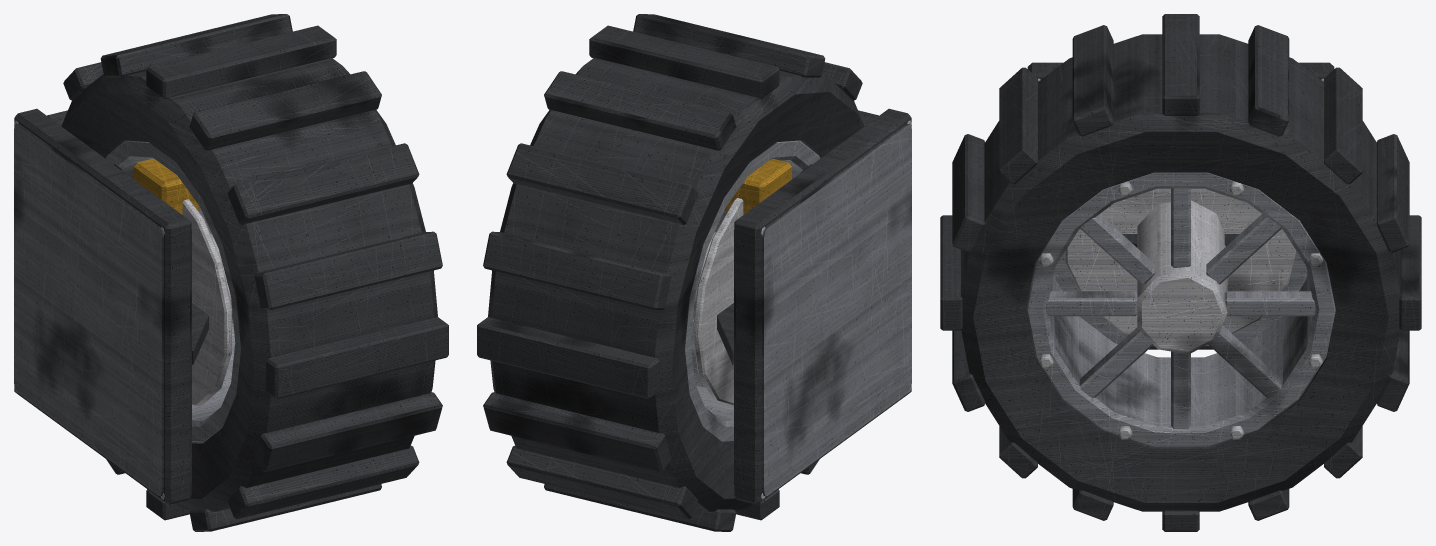
Rendered from R4M_WheelM_Side_Offroad.glb.
3 renders of one model, left to right at view 1: azimuth 30°, elevation 25°; view 2: azimuth 150°, elevation 25°; view 3: azimuth 270°, elevation 25°, orthographic.
Visible parts, largest first — view 1: R4M_WheelM_Side_Offroad_Rotor, R4M_WheelM_Side_Offroad_Mount; view 2: R4M_WheelM_Side_Offroad_Rotor, R4M_WheelM_Side_Offroad_Mount; view 3: R4M_WheelM_Side_Offroad_Rotor, R4M_WheelM_Side_Offroad_Mount.
Boxes of the visible parts, left/top/right/bottom form: R4M_WheelM_Side_Offroad_Rotor: left=47, top=14, right=448, bottom=531; R4M_WheelM_Side_Offroad_Mount: left=14, top=108, right=231, bottom=504; R4M_WheelM_Side_Offroad_Rotor: left=477, top=14, right=878, bottom=531; R4M_WheelM_Side_Offroad_Mount: left=692, top=108, right=911, bottom=504; R4M_WheelM_Side_Offroad_Rotor: left=940, top=14, right=1421, bottom=531; R4M_WheelM_Side_Offroad_Mount: left=1027, top=62, right=1334, bottom=349.
Size of the model in its own units: 0.452 by 0.776 by 0.776.
Materials: 4 (4 with a texture image).
